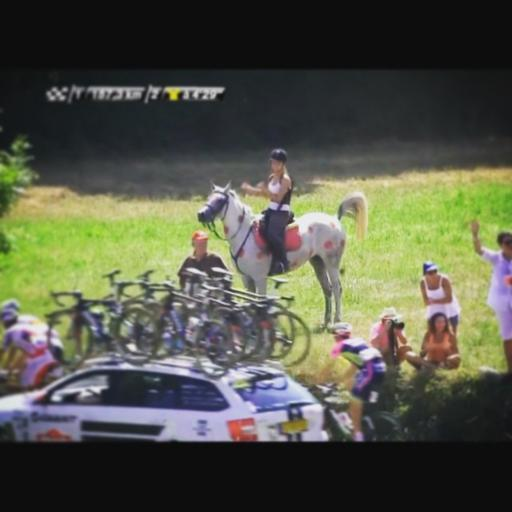horse: (196, 179, 370, 333)
